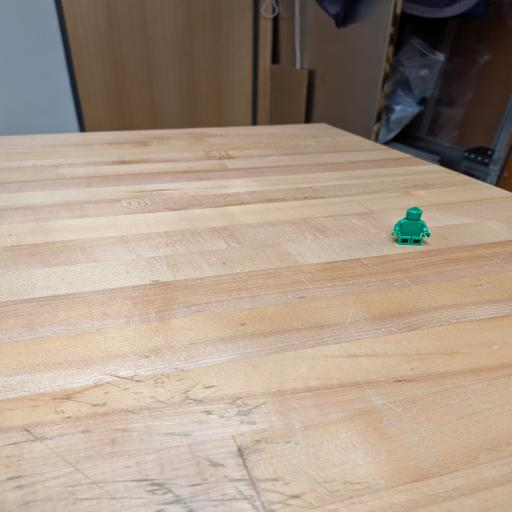Minifig: (393, 207, 431, 245)
